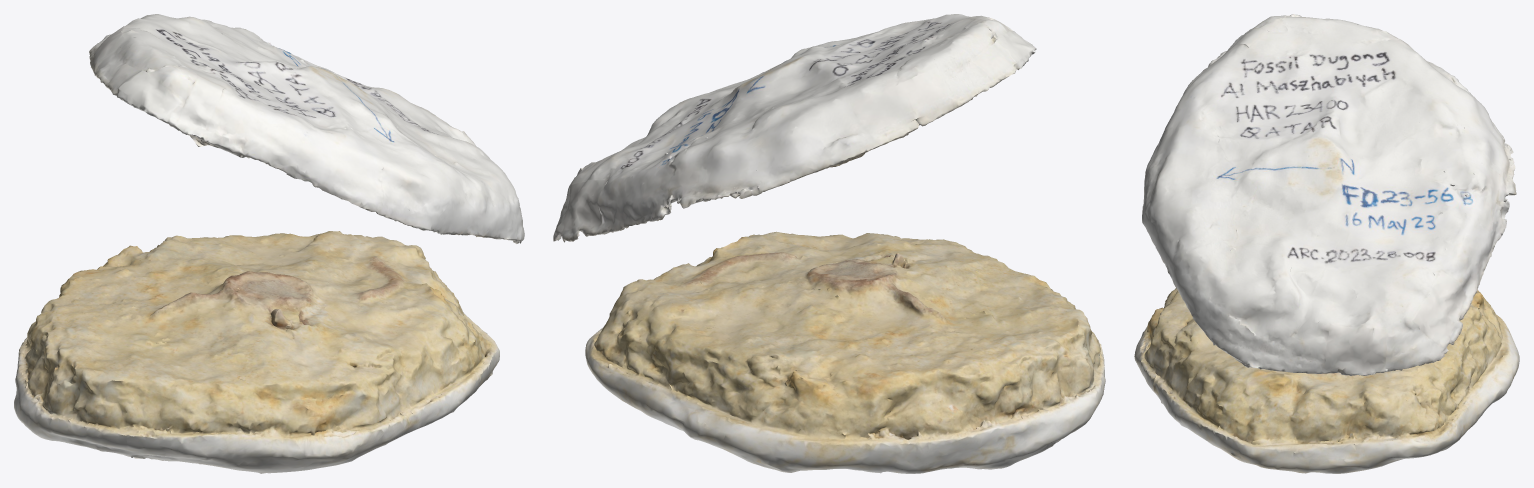
3 renders of one model, left to right at view 1: azimuth 30°, elevation 25°; view 2: azimuth 150°, elevation 25°; view 3: azimuth 270°, elevation 25°, orthographic. The views are drawn at different scales.
Size of the model in its own units: 0.3798 by 0.2959 by 0.3045.
1 material, 1 textured.
